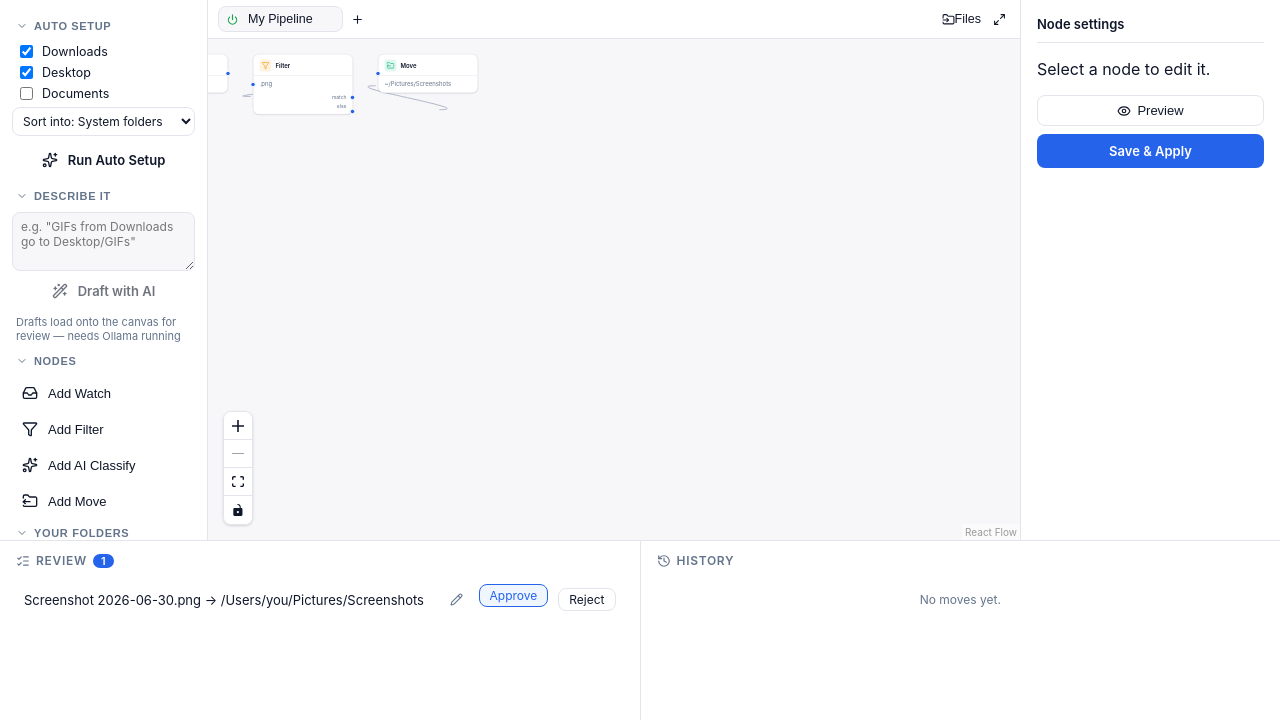
Test: App › focus mode hides the palette, config panel, and dock
Expected: the button "Add Watch" is shown, [12,377,195,409]
Click the button named "focus on the graph" at (1000, 19), box [989,10,1010,28]
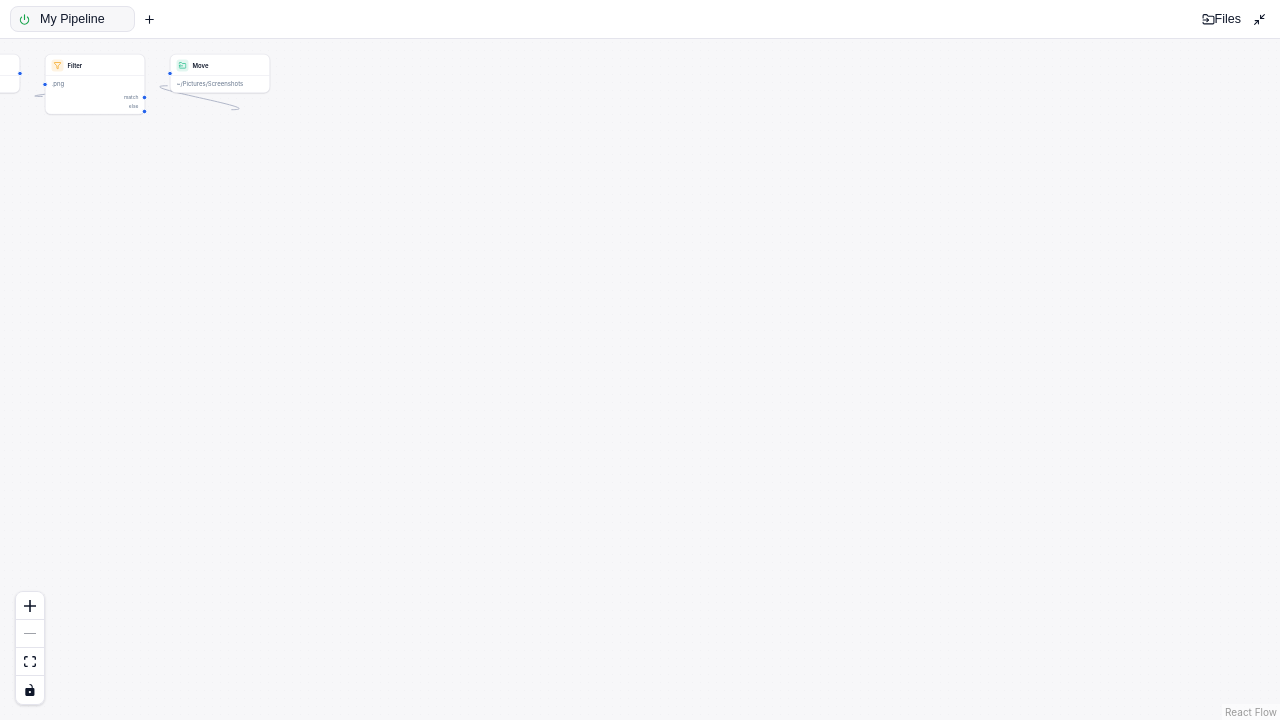
Expected: the button "Add Watch" is gone
Expected: the heading "Node settings" is gone
Click the button named "show panels" at (1260, 19), box [1249,10,1270,28]
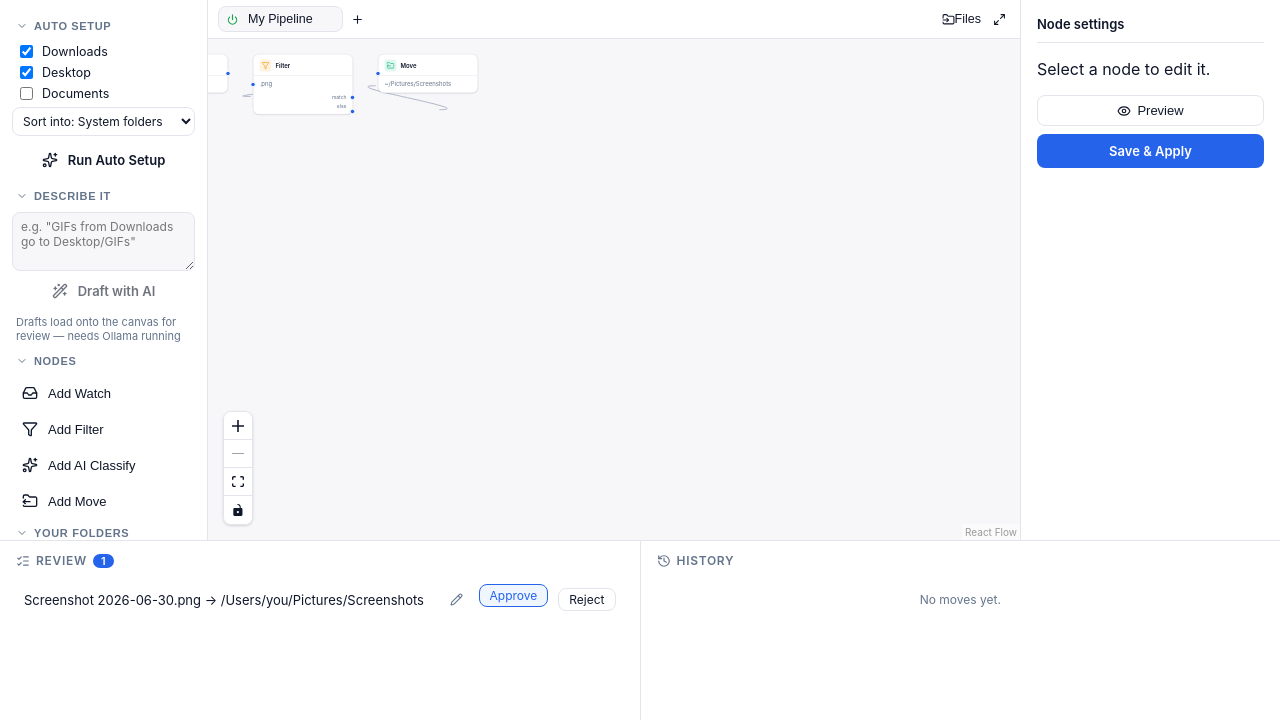
Expected: the button "Add Watch" is shown, [12,377,195,409]
